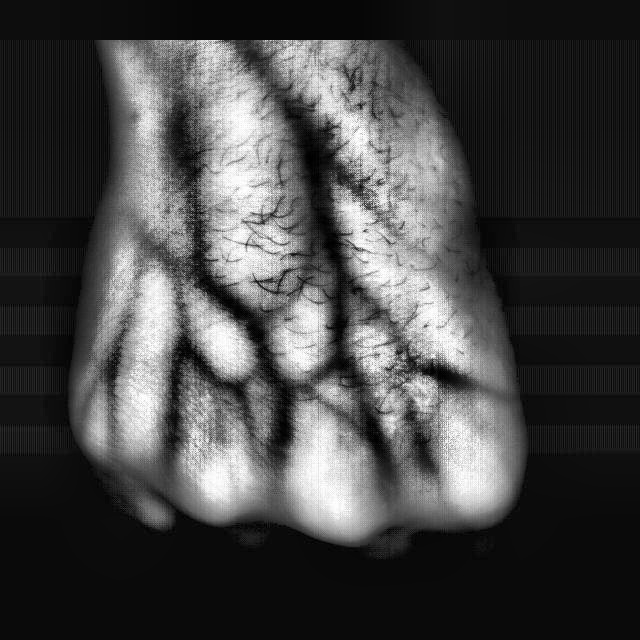Vein: (269, 78, 351, 264)
